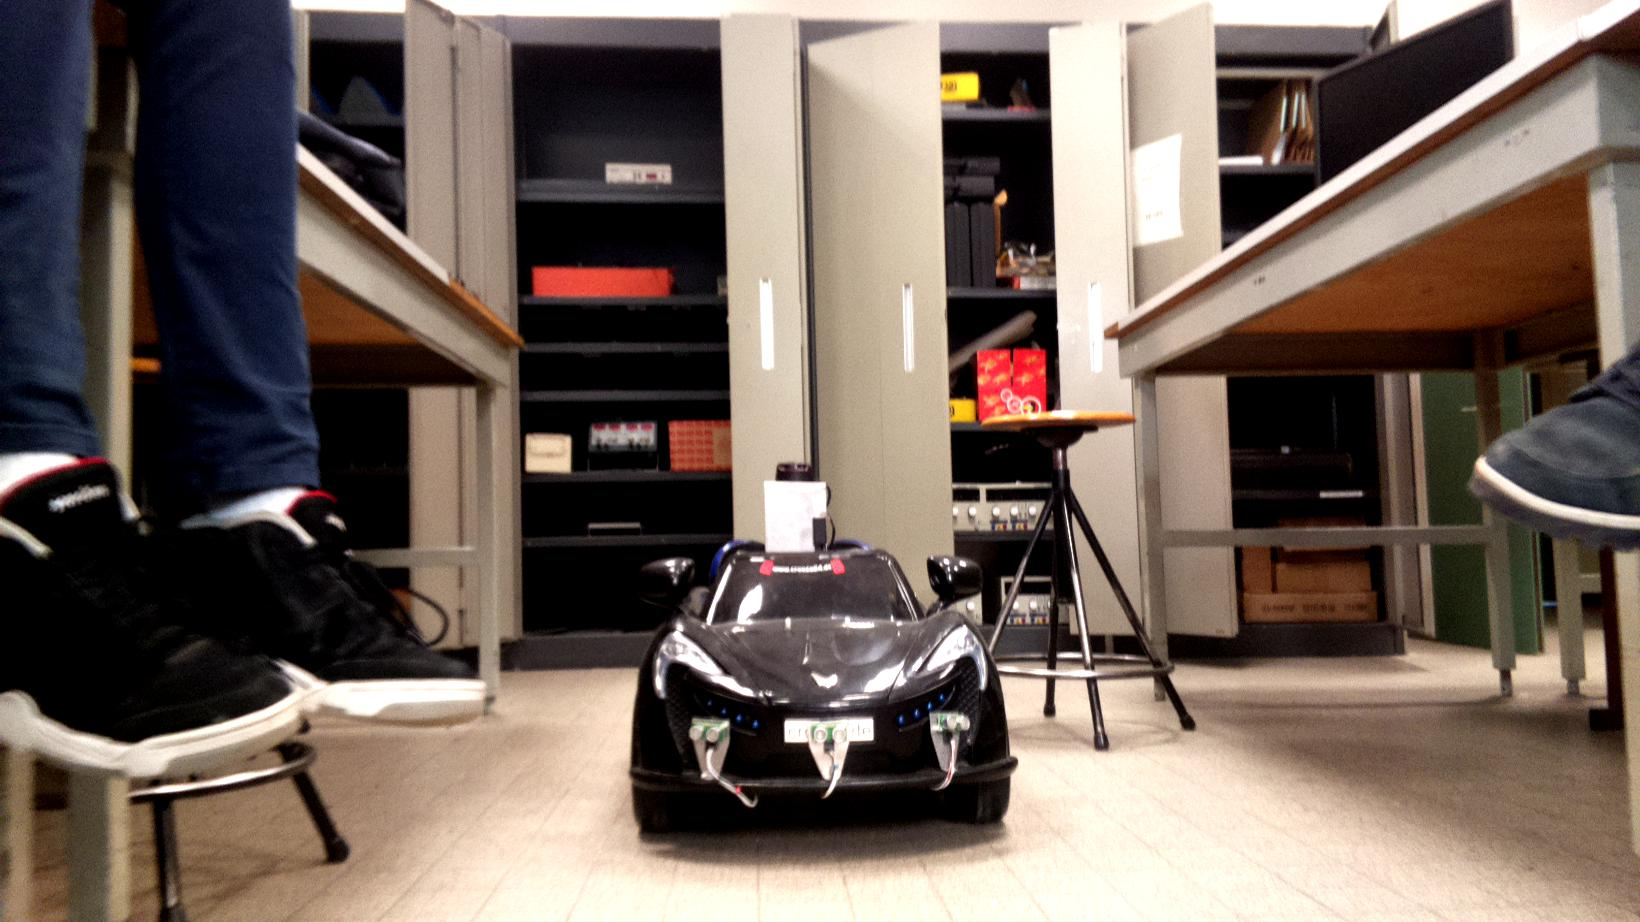big: (627, 459, 1025, 836)
